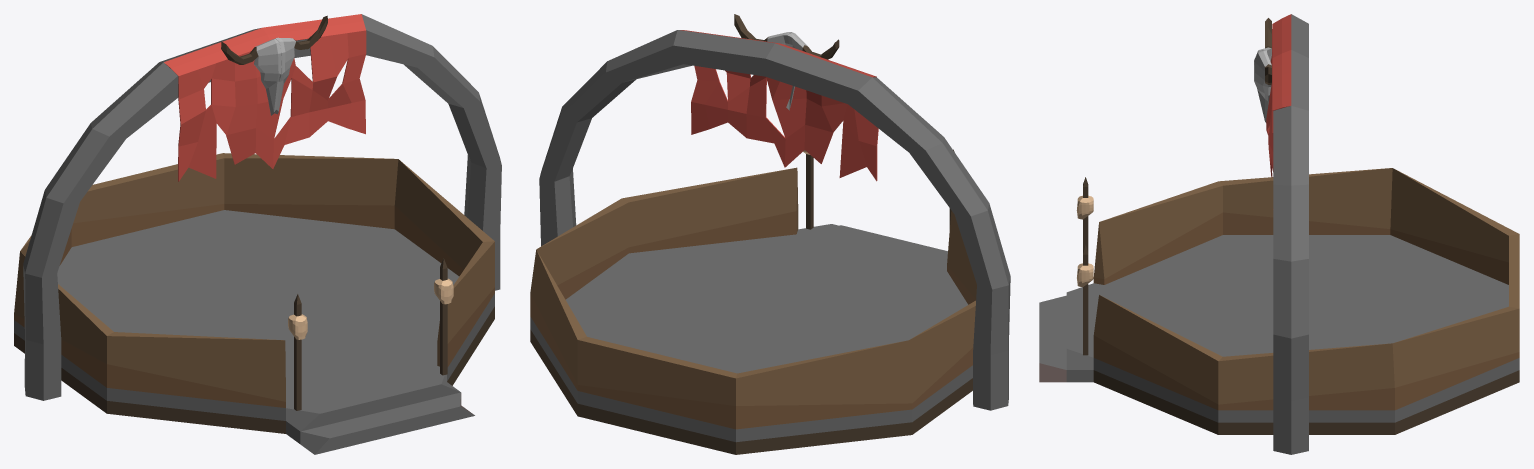
File: FBX - Barracks(Aswang).fbx
3 renders of one model, left to right at view 1: azimuth 30°, elevation 25°; view 2: azimuth 150°, elevation 25°; view 3: azimuth 270°, elevation 25°, orthographic. The views are drawn at different scales.
Visible parts, largest first — view 1: Octgon, Cube, Banner, Plane, Efigy.002, Efigy; view 2: Octgon, Cube, Banner, Plane, Efigy.002; view 3: Octgon, Cube, Banner, Plane, Efigy.002, Efigy.
Part boxes in pixels (x1=…): Octgon: x1=14, y1=153, x2=494, y2=454; Cube: x1=23, y1=14, x2=501, y2=400; Banner: x1=164, y1=14, x2=366, y2=181; Plane: x1=221, y1=15, x2=327, y2=115; Efigy.002: x1=433, y1=258, x2=453, y2=375; Efigy: x1=288, y1=294, x2=307, y2=410; Octgon: x1=530, y1=167, x2=976, y2=454; Cube: x1=539, y1=30, x2=1010, y2=410; Banner: x1=680, y1=30, x2=878, y2=181; Plane: x1=734, y1=14, x2=839, y2=110; Efigy.002: x1=803, y1=150, x2=813, y2=229; Octgon: x1=1039, y1=168, x2=1519, y2=434; Cube: x1=1273, y1=14, x2=1308, y2=454; Banner: x1=1266, y1=14, x2=1291, y2=209; Plane: x1=1254, y1=18, x2=1271, y2=122; Efigy.002: x1=1077, y1=244, x2=1093, y2=355; Efigy: x1=1076, y1=177, x2=1093, y2=251.
Bounding box in the file's own units: 959 × 615 × 884.
